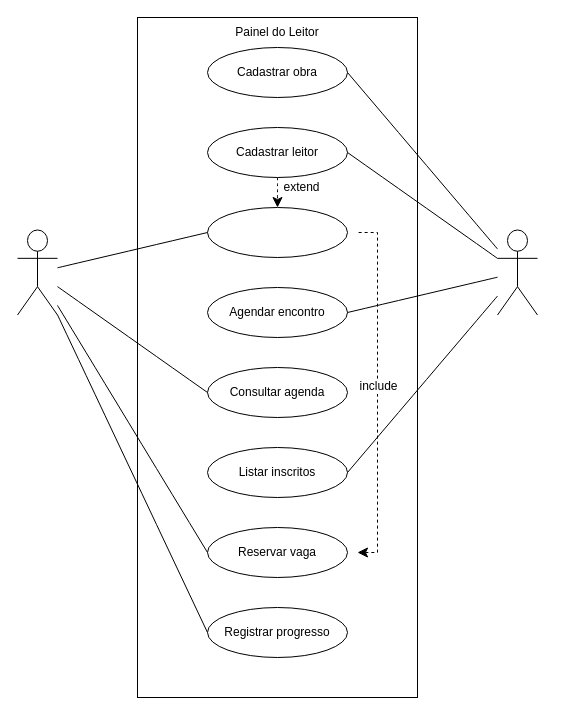
The diagram is 568 pixels wide and 715 high, and some of its shapes have lost their labels. The shapes that lost their labels are listed below. From the top down, each one's centre as x and y in pixels, then its label:
the point at 277,232: Identificar leitor
the point at 37,272: Leitor
the point at 517,272: Organizador
